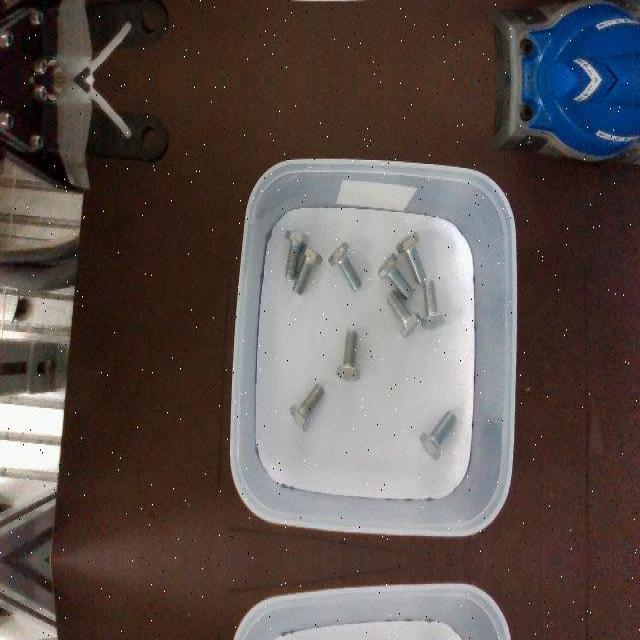screw: (420, 408, 457, 458), (328, 241, 363, 291), (290, 382, 325, 432), (386, 289, 421, 339), (378, 253, 413, 299), (395, 232, 427, 282), (292, 244, 322, 296), (335, 329, 360, 381), (421, 279, 445, 329), (284, 231, 307, 279)
